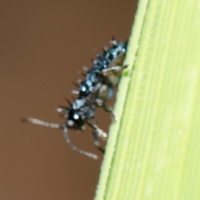insect: (23, 39, 126, 159)
